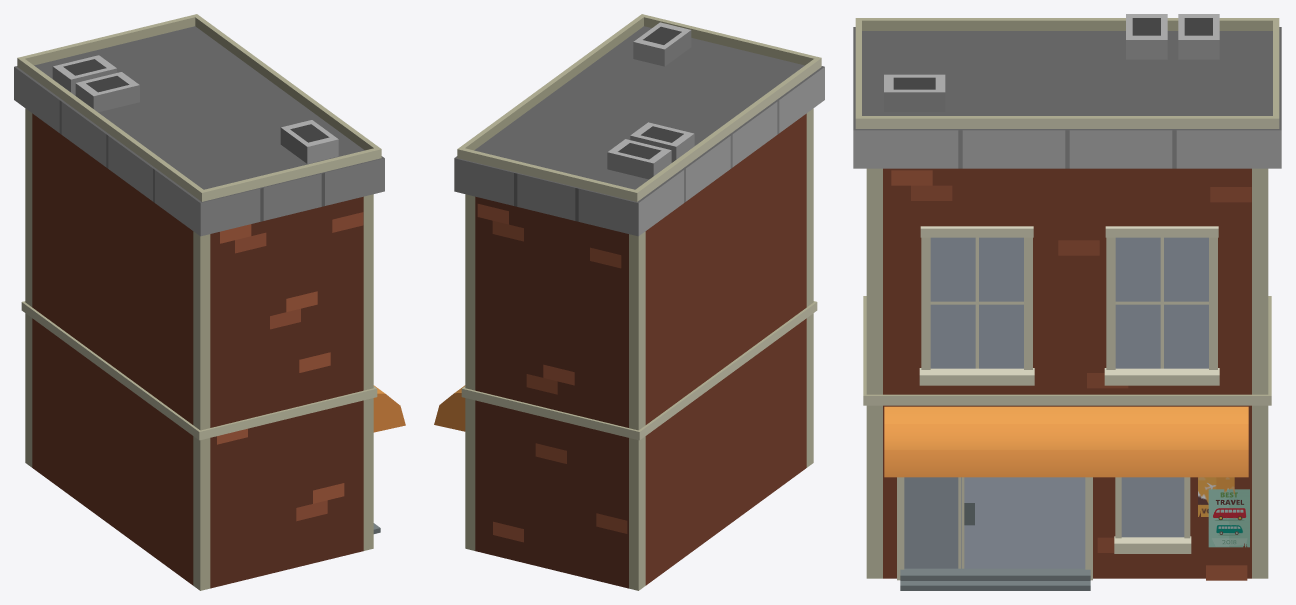
The model's file is building01.FBX.
3 views of the same model, side by side, from view 1: azimuth 30°, elevation 25°; view 2: azimuth 150°, elevation 25°; view 3: azimuth 270°, elevation 25° (orthographic). The views are drawn at different scales.
Visible parts, largest first — view 1: building01; view 2: building01; view 3: building01.
Part boxes in pixels (x1,y1,x2,y2): building01: (14,14,405,590); building01: (434,14,824,590); building01: (853,14,1281,590).
Bounding box in the file's own units: 253 × 454 × 373.
